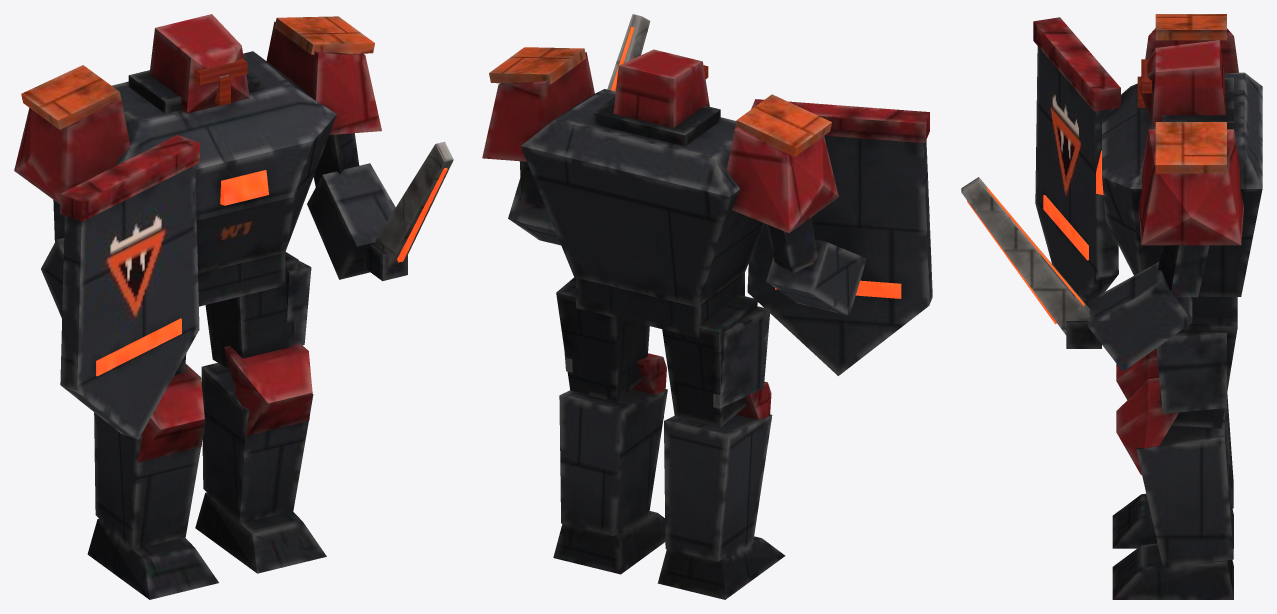
File: u_warden1_e.glb
The picture shows the model from 3 angles, left to right: view 1: azimuth 30°, elevation 25°; view 2: azimuth 150°, elevation 25°; view 3: azimuth 270°, elevation 25°; orthographic projection. The views are drawn at different scales.
Parts seen in each view (by area): view 1: u_warden1_e; view 2: u_warden1_e; view 3: u_warden1_e.
Boxes of the visible parts, bbox=[...] form: u_warden1_e: bbox=[14, 14, 453, 599]; u_warden1_e: bbox=[482, 14, 932, 599]; u_warden1_e: bbox=[961, 14, 1262, 599].
Bounding box in the file's own units: 1.18 × 1.56 × 0.8444.
Materials: 1 (1 with a texture image).
